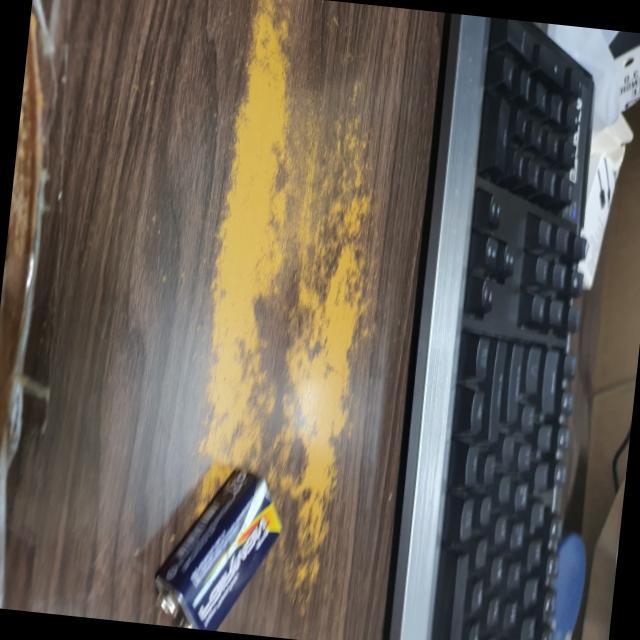battery-etc-etc: (148, 450, 292, 637)
